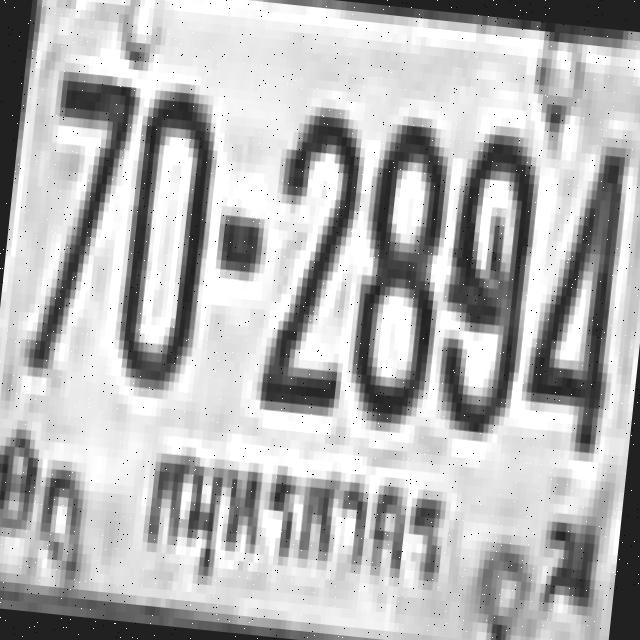0: (110, 70, 216, 383)
2: (255, 95, 365, 408)
4: (516, 131, 626, 444)
7: (26, 62, 136, 374)
8: (342, 104, 452, 417)
9: (430, 117, 540, 430)
SamutSakhon: (134, 423, 456, 612)
